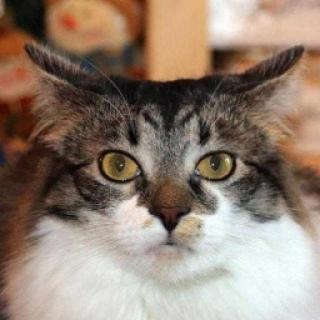cat: (26, 31, 307, 287)
nose: (143, 177, 195, 240)
